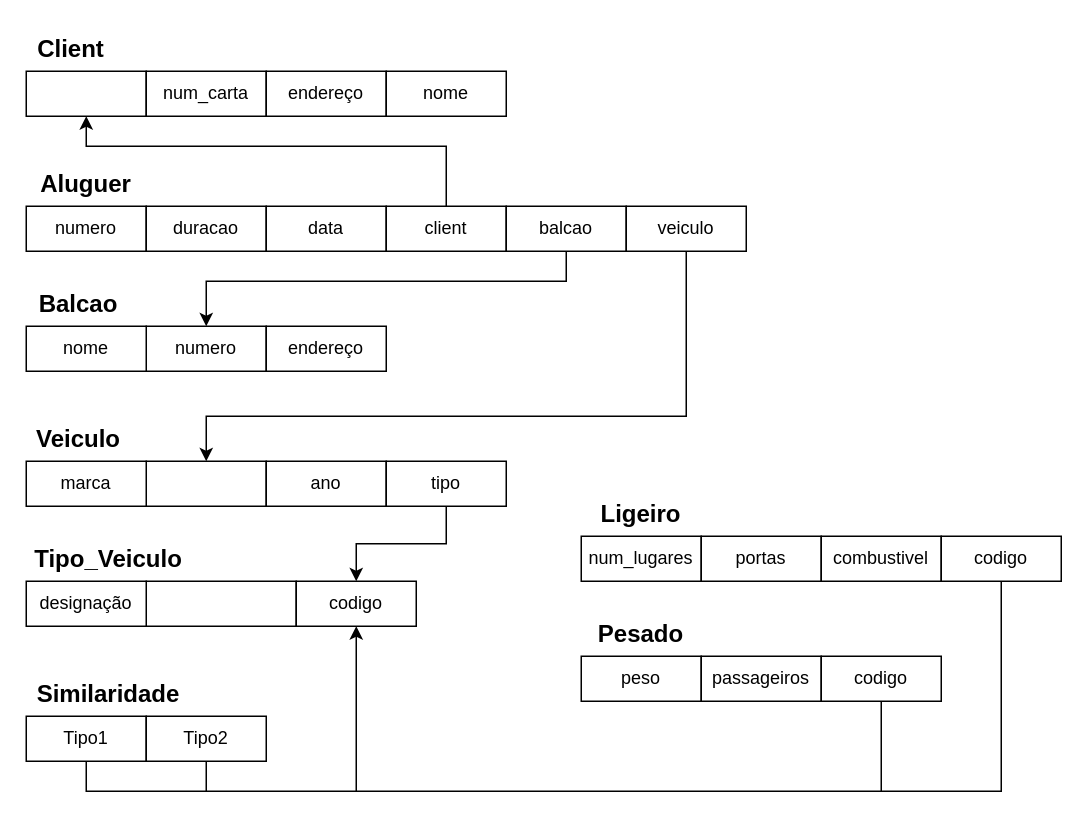
This 1088x830 diagram has some shape labels left out. Each missing label, with the centre of its shape:
arcondicionado: pixel 220 603
matricula: pixel 205 483
NIF: pixel 85 93
